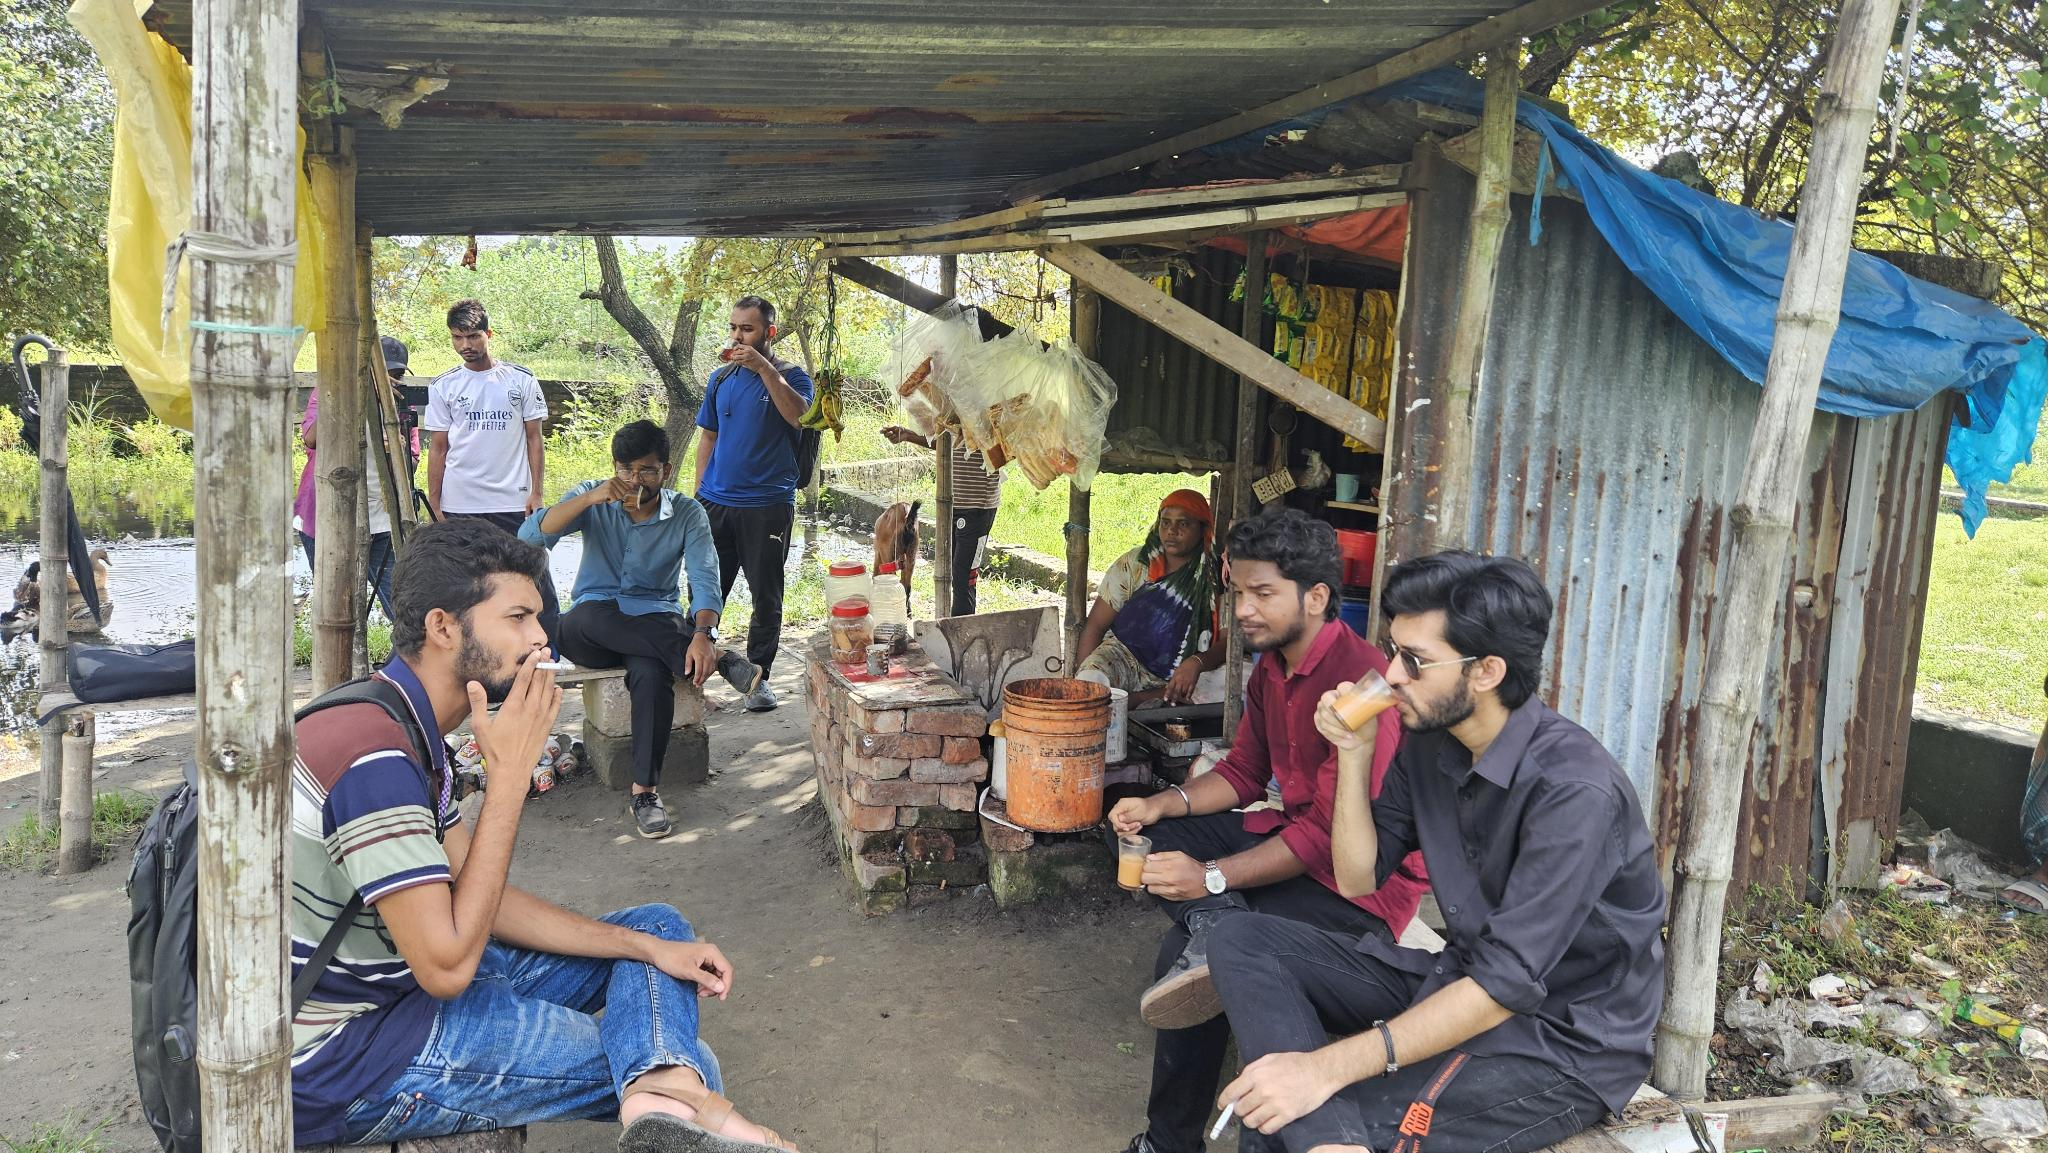cigarette: (1207, 1094, 1242, 1142), (535, 659, 578, 672)
nonSmoker: (1108, 506, 1395, 1024), (544, 420, 786, 839), (695, 295, 821, 711), (1076, 488, 1228, 710), (423, 298, 549, 537)
smoker: (291, 516, 793, 1153), (1204, 547, 1667, 1153)
